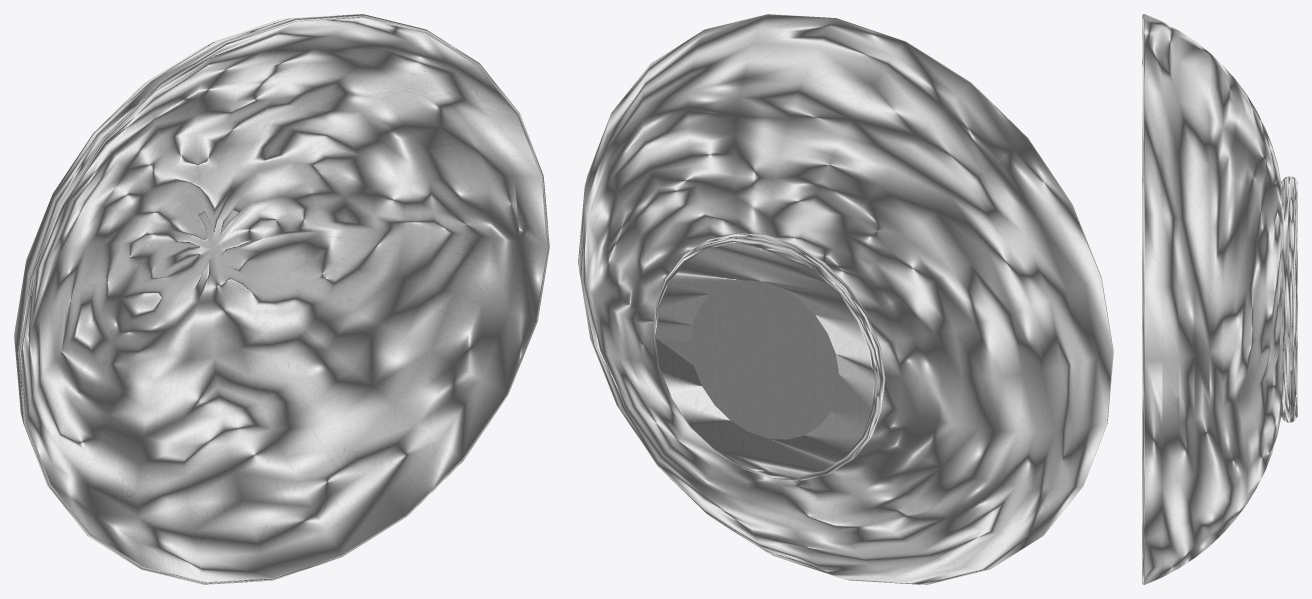
Rendered from model_align.obj.
3 views of the same model, side by side, from view 1: azimuth 30°, elevation 25°; view 2: azimuth 150°, elevation 25°; view 3: azimuth 270°, elevation 25° (orthographic). The views are drawn at different scales.
Size of the model in its own units: 0.1641 by 0.1641 by 0.0447.
Materials: 2 (2 with a texture image).
